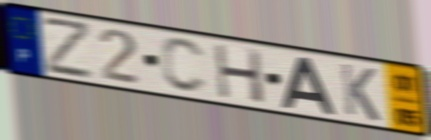2: (97, 28, 139, 87)
A: (279, 55, 338, 118)
C: (159, 36, 210, 96)
H: (212, 42, 268, 106)
K: (338, 61, 382, 124)
Z: (40, 17, 95, 82)
